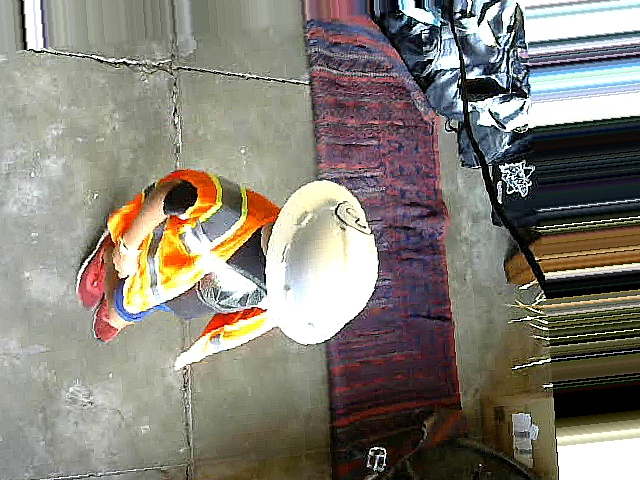three: (333, 195, 374, 238)
